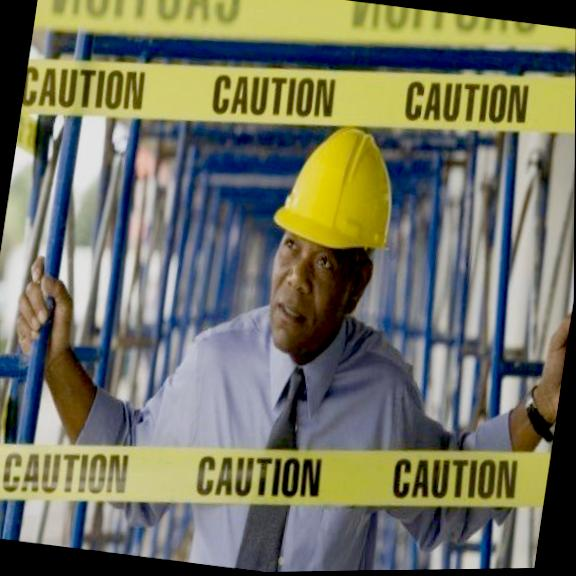no_safety_vest: (175, 326, 402, 573)
